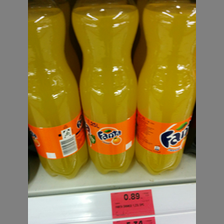soda: (70, 1, 141, 175), (28, 1, 89, 178), (137, 2, 195, 174)
